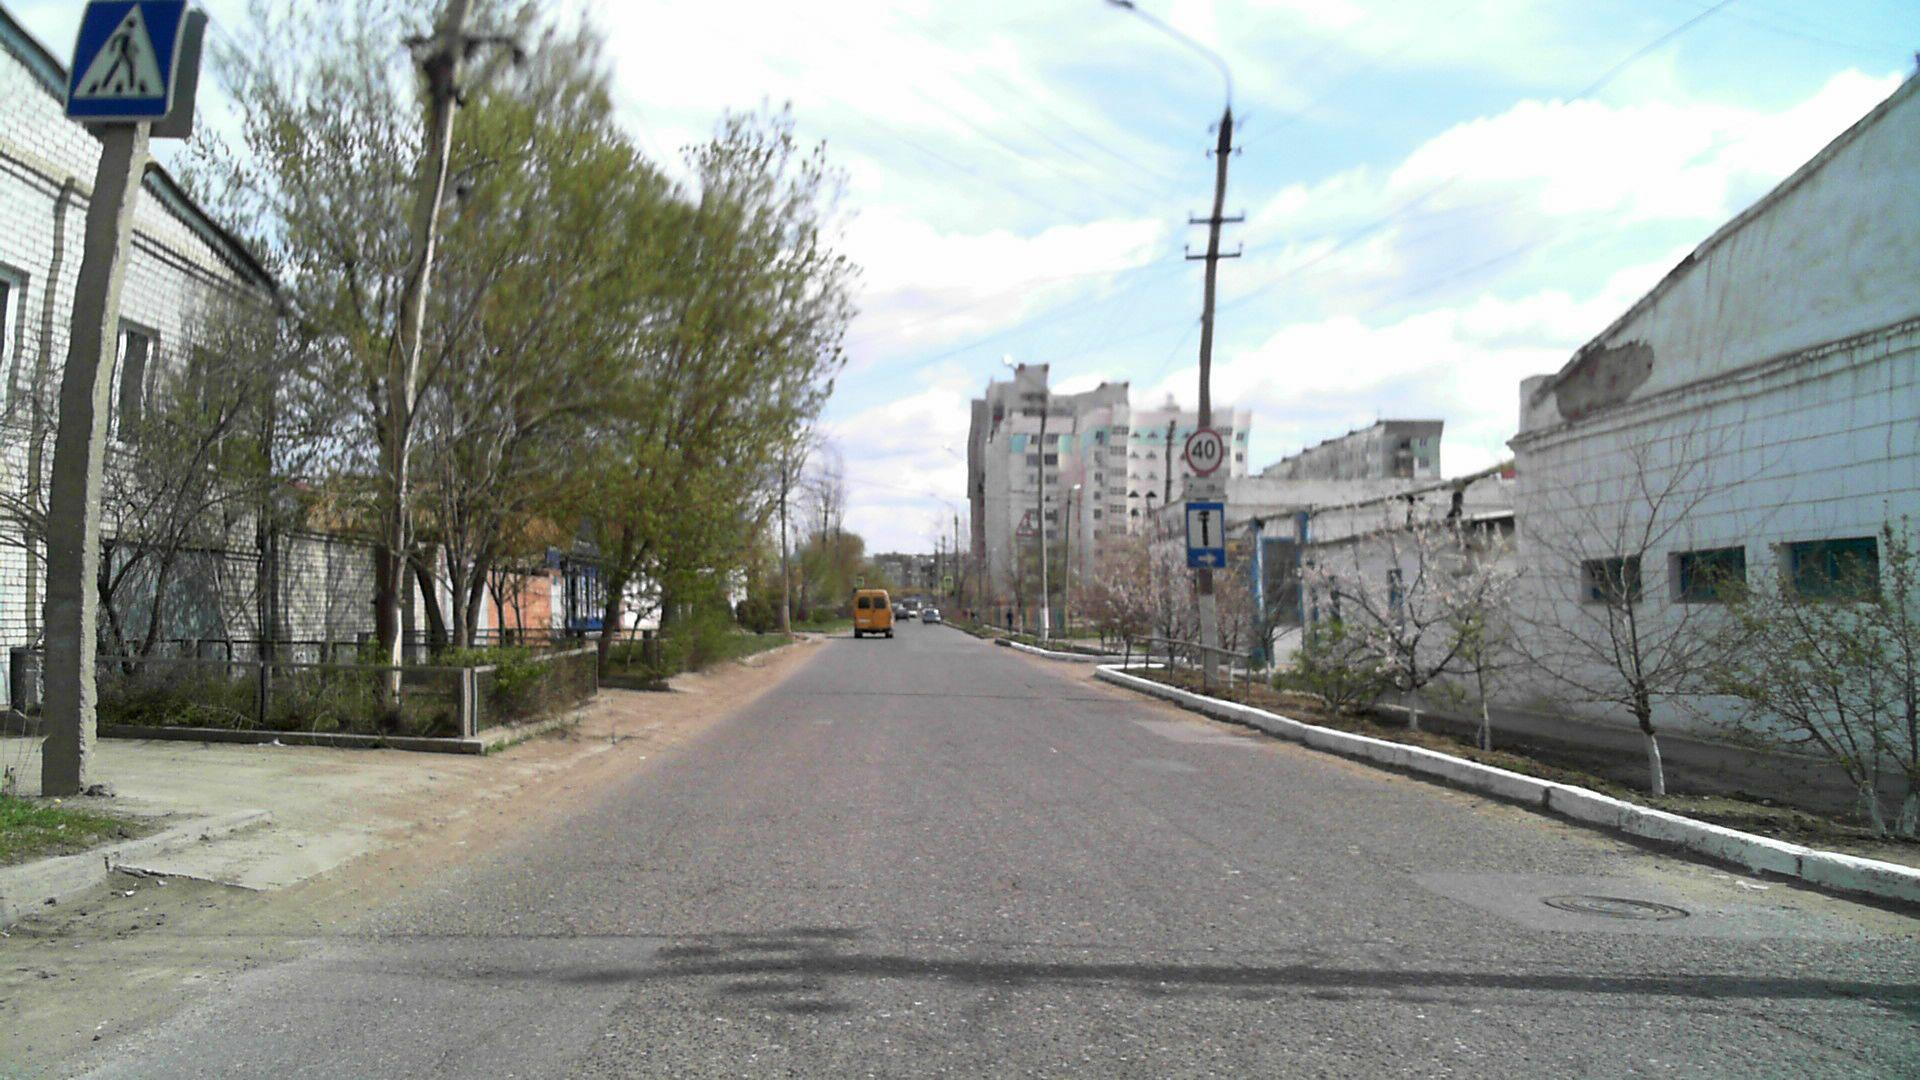1_23: (1016, 514, 1035, 536)
3_24: (1181, 426, 1225, 475)
5_19_1: (945, 577, 954, 586)
5_19_2: (70, 0, 178, 124), (854, 576, 864, 587)
7_4: (1185, 500, 1226, 567)
8_5_4: (1183, 477, 1226, 497)
